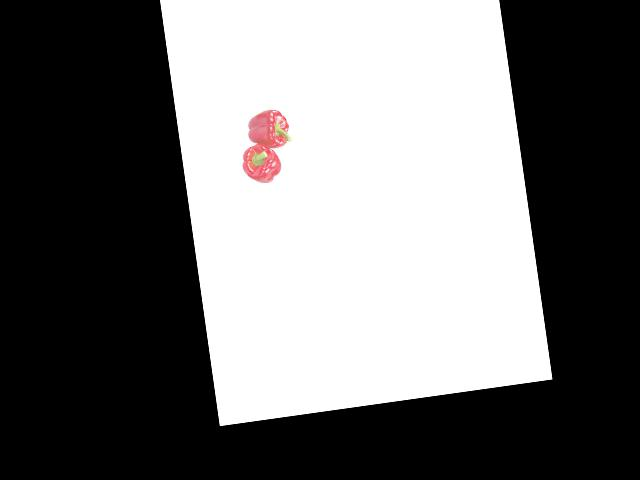bell_pepper: (242, 106, 294, 153)
